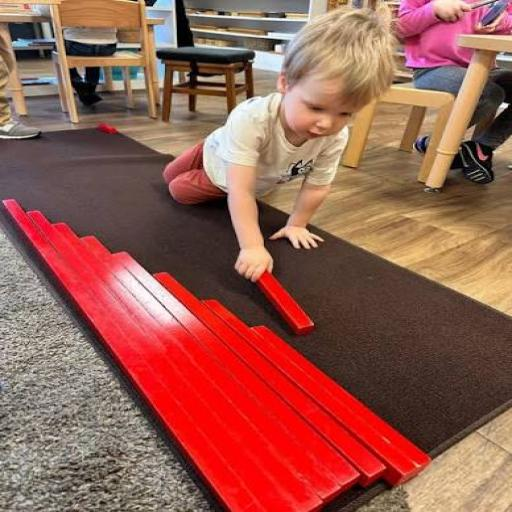kursi: (52, 0, 158, 123), (344, 84, 455, 181), (158, 47, 253, 122)
red rods: (3, 200, 431, 511)
